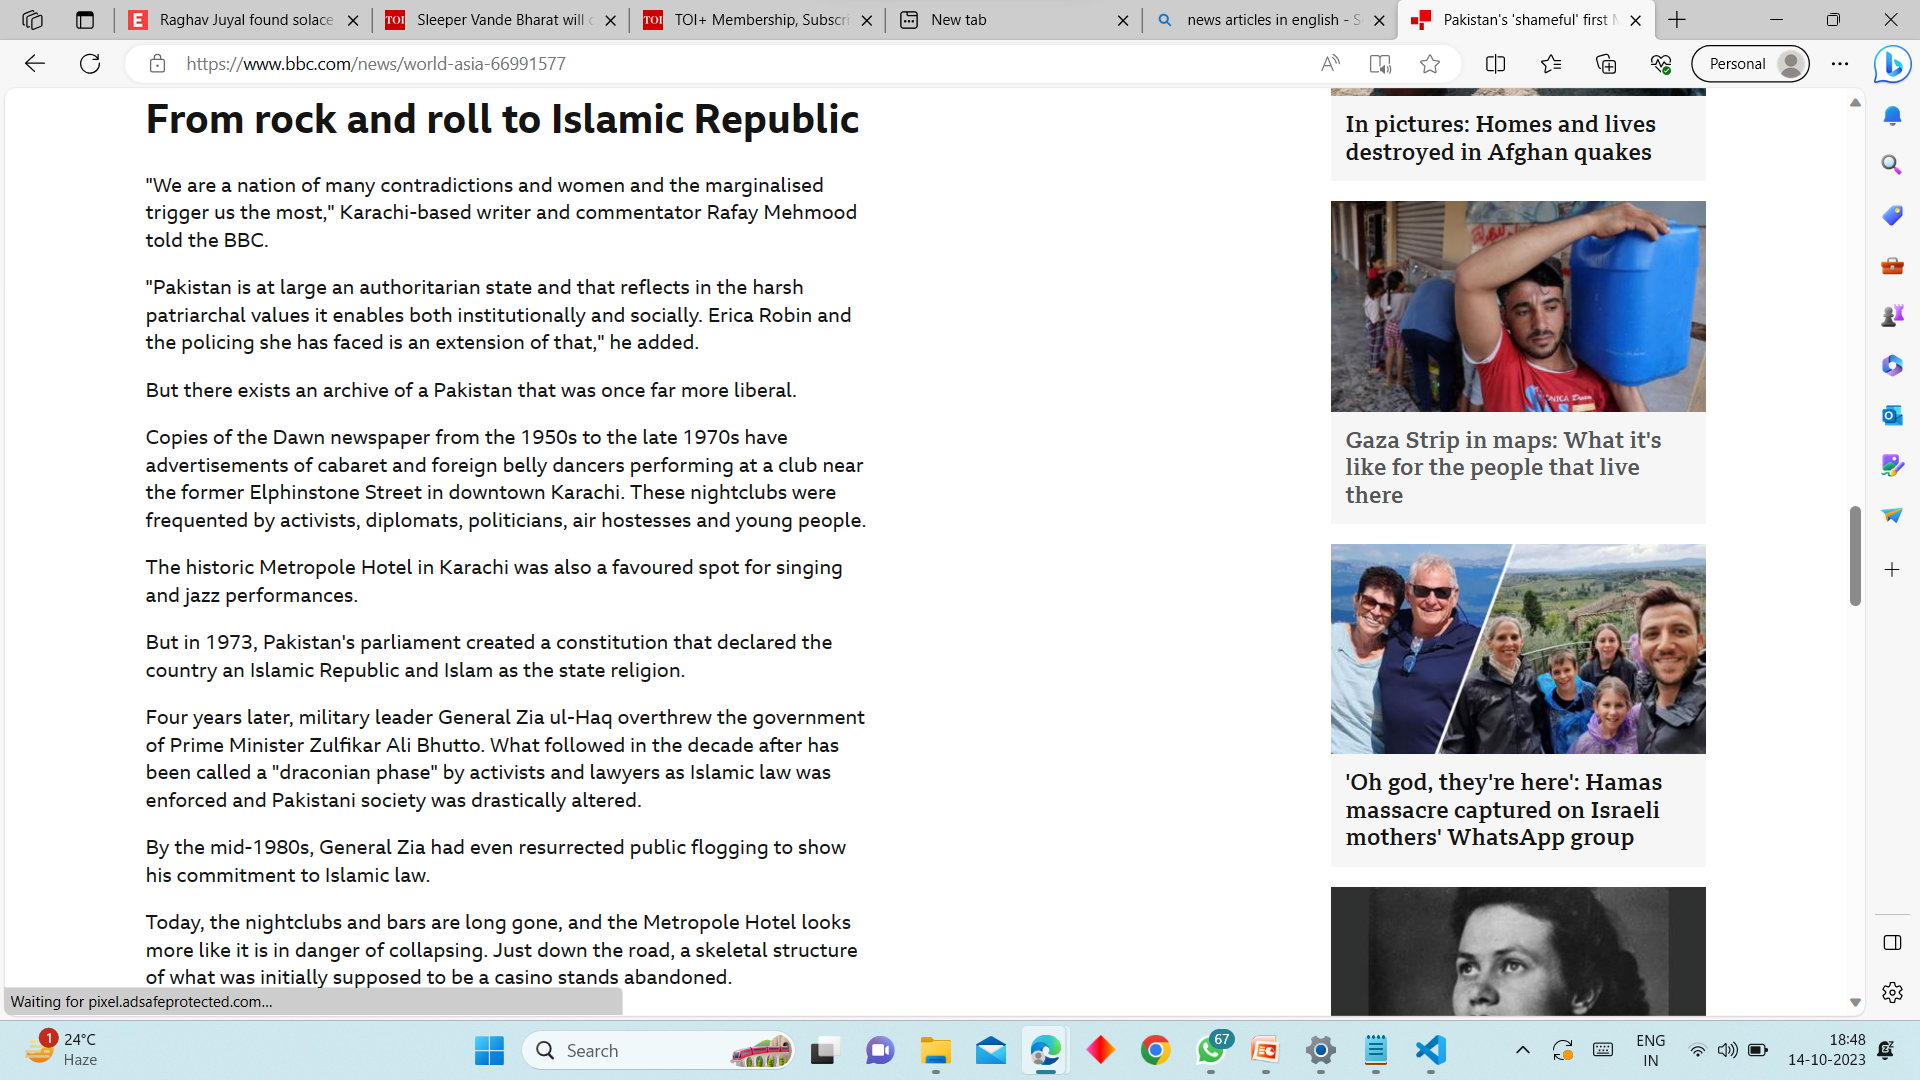Image: (1328, 190, 1701, 414), (1327, 539, 1722, 746), (1333, 885, 1706, 1010)
Paragraph: (123, 700, 887, 816), (136, 418, 884, 534), (144, 158, 870, 257), (144, 270, 870, 363), (136, 910, 884, 1000), (141, 550, 877, 620), (135, 621, 868, 691), (138, 829, 845, 893), (141, 92, 858, 144), (1340, 756, 1671, 858), (1333, 418, 1679, 508), (1341, 100, 1672, 173), (136, 378, 810, 407)
